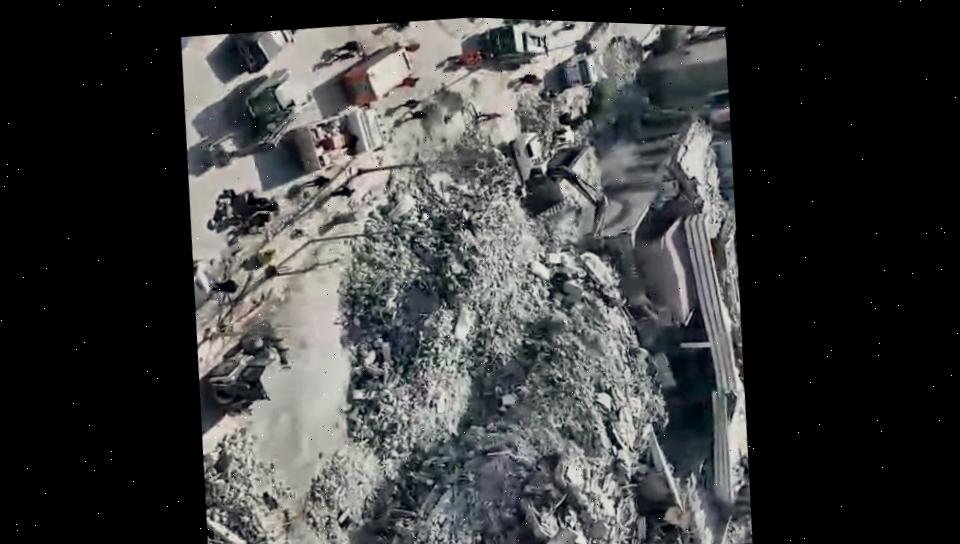kapali: (198, 21, 654, 544)
